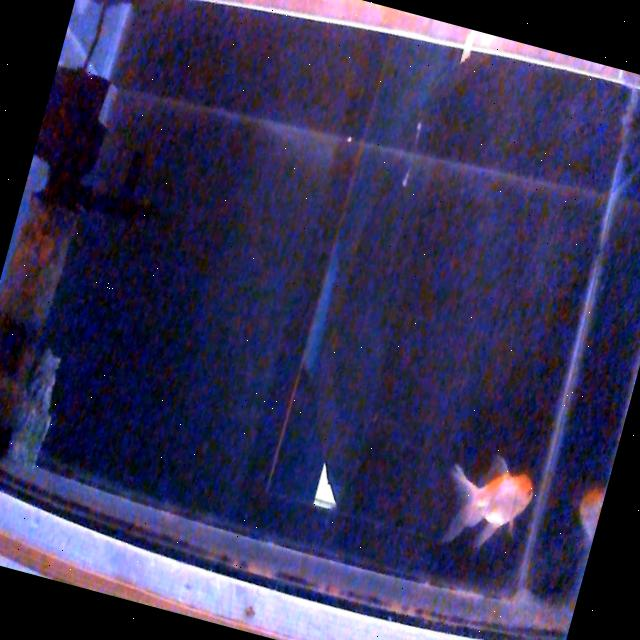fish: (430, 444, 540, 566), (569, 480, 606, 540)
